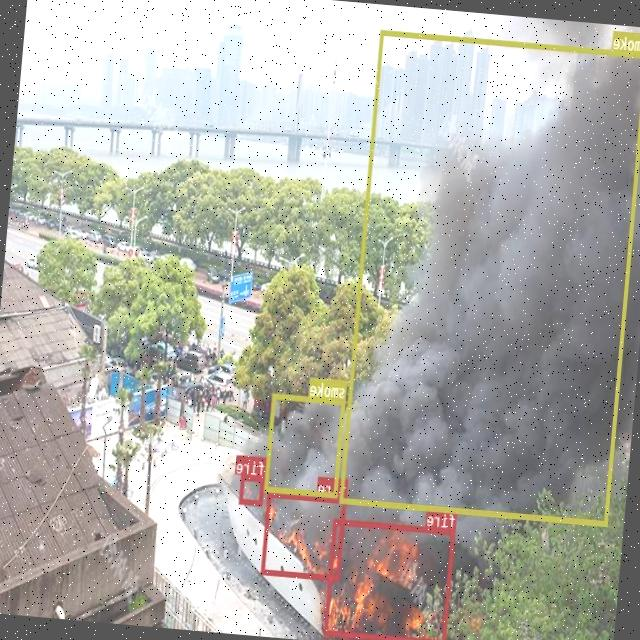fire: (324, 518, 455, 640), (260, 490, 346, 580), (240, 474, 265, 504)
smoke: (340, 28, 640, 525), (264, 392, 346, 497)
